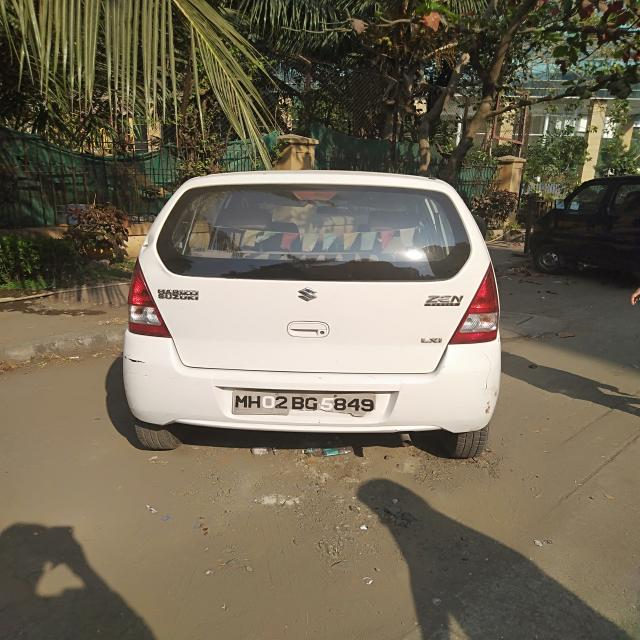Number-Plate: (236, 392, 379, 416)
